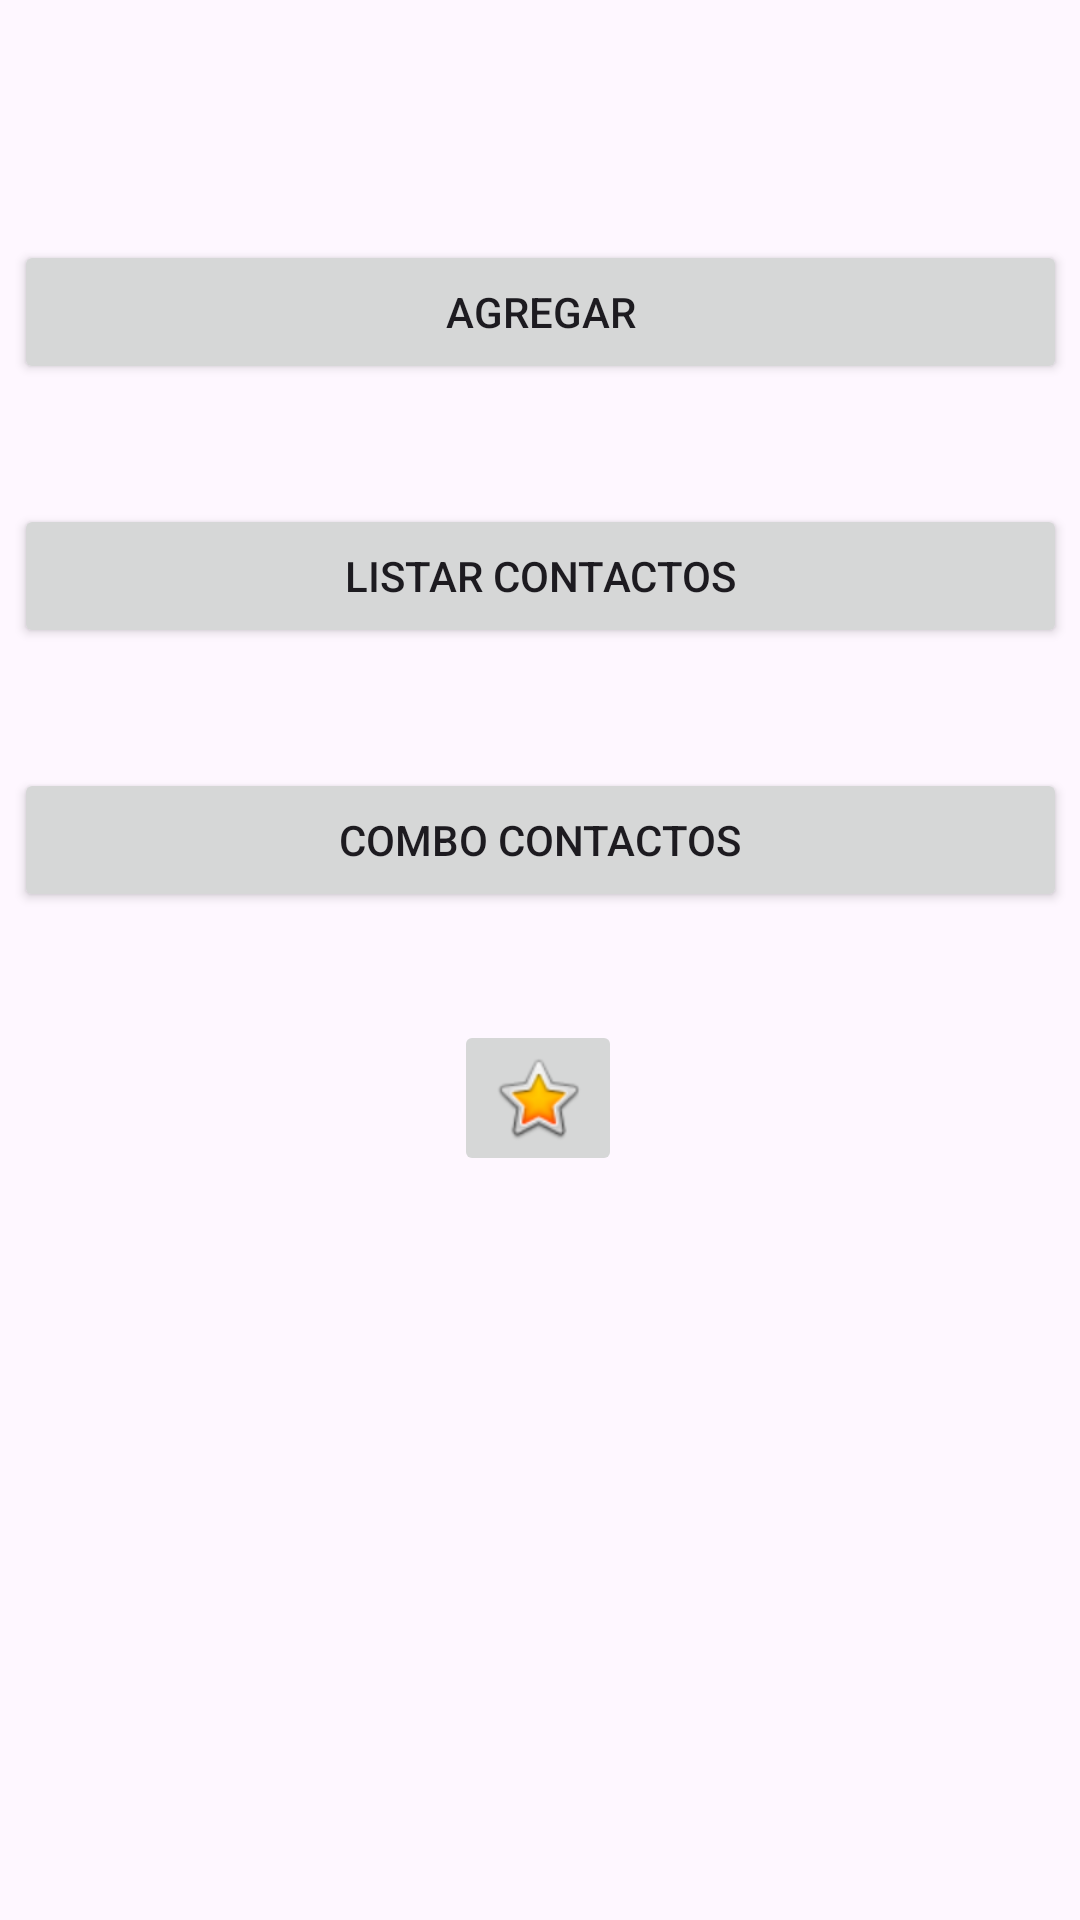

Screen size 1080w x 1920h. Icon name, then its box in pixels as (x1, y1, x2, y2):
star on: (466, 1038, 610, 1158)
